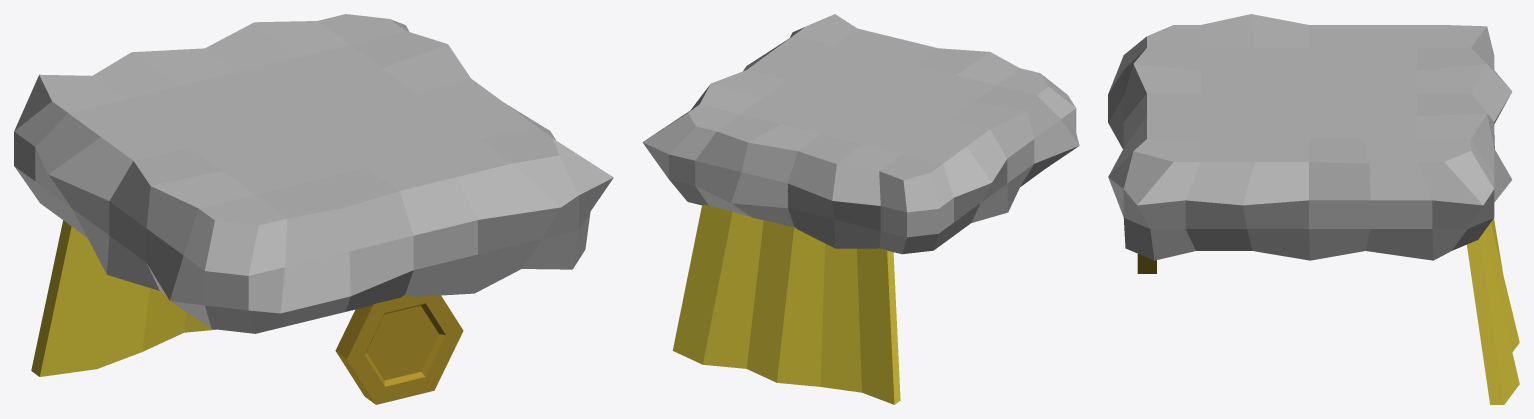
File: playerCapeYellow.fbx
3 renders of one model, left to right at view 1: azimuth 30°, elevation 25°; view 2: azimuth 150°, elevation 25°; view 3: azimuth 270°, elevation 25°, orthographic. The views are drawn at different scales.
Parts seen in each view (by area): view 1: Player Cape - Purple; view 2: Player Cape - Purple; view 3: Player Cape - Purple.
Part boxes in pixels (box(x1,y1,x2,y2)): Player Cape - Purple: box(14, 14, 613, 404); Player Cape - Purple: box(642, 14, 1079, 404); Player Cape - Purple: box(1108, 14, 1519, 404).
Bounding box in the file's own units: 98.85 × 101 × 68.25.
